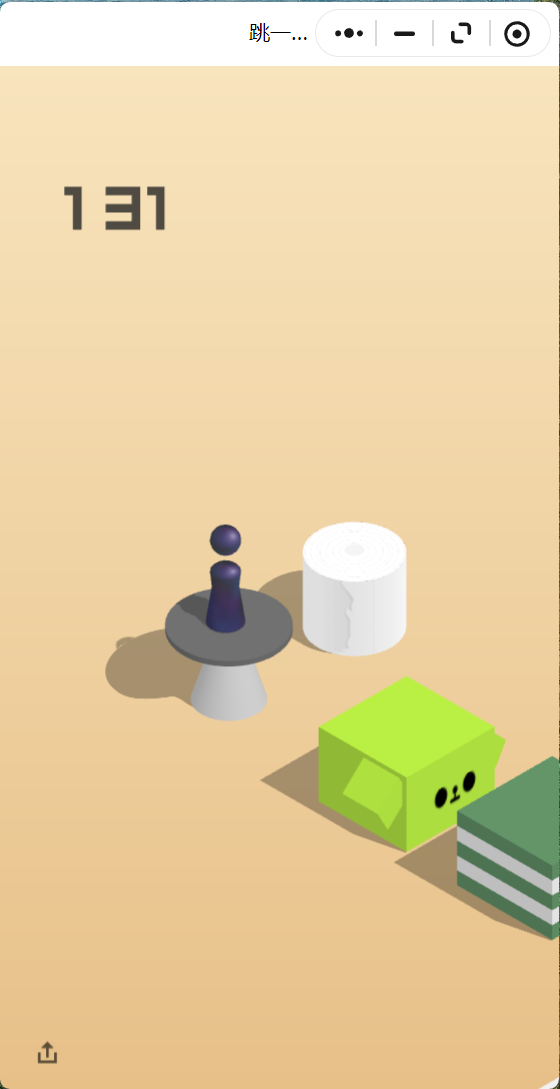piece: (210, 524, 241, 628)
target: (304, 522, 407, 581)
